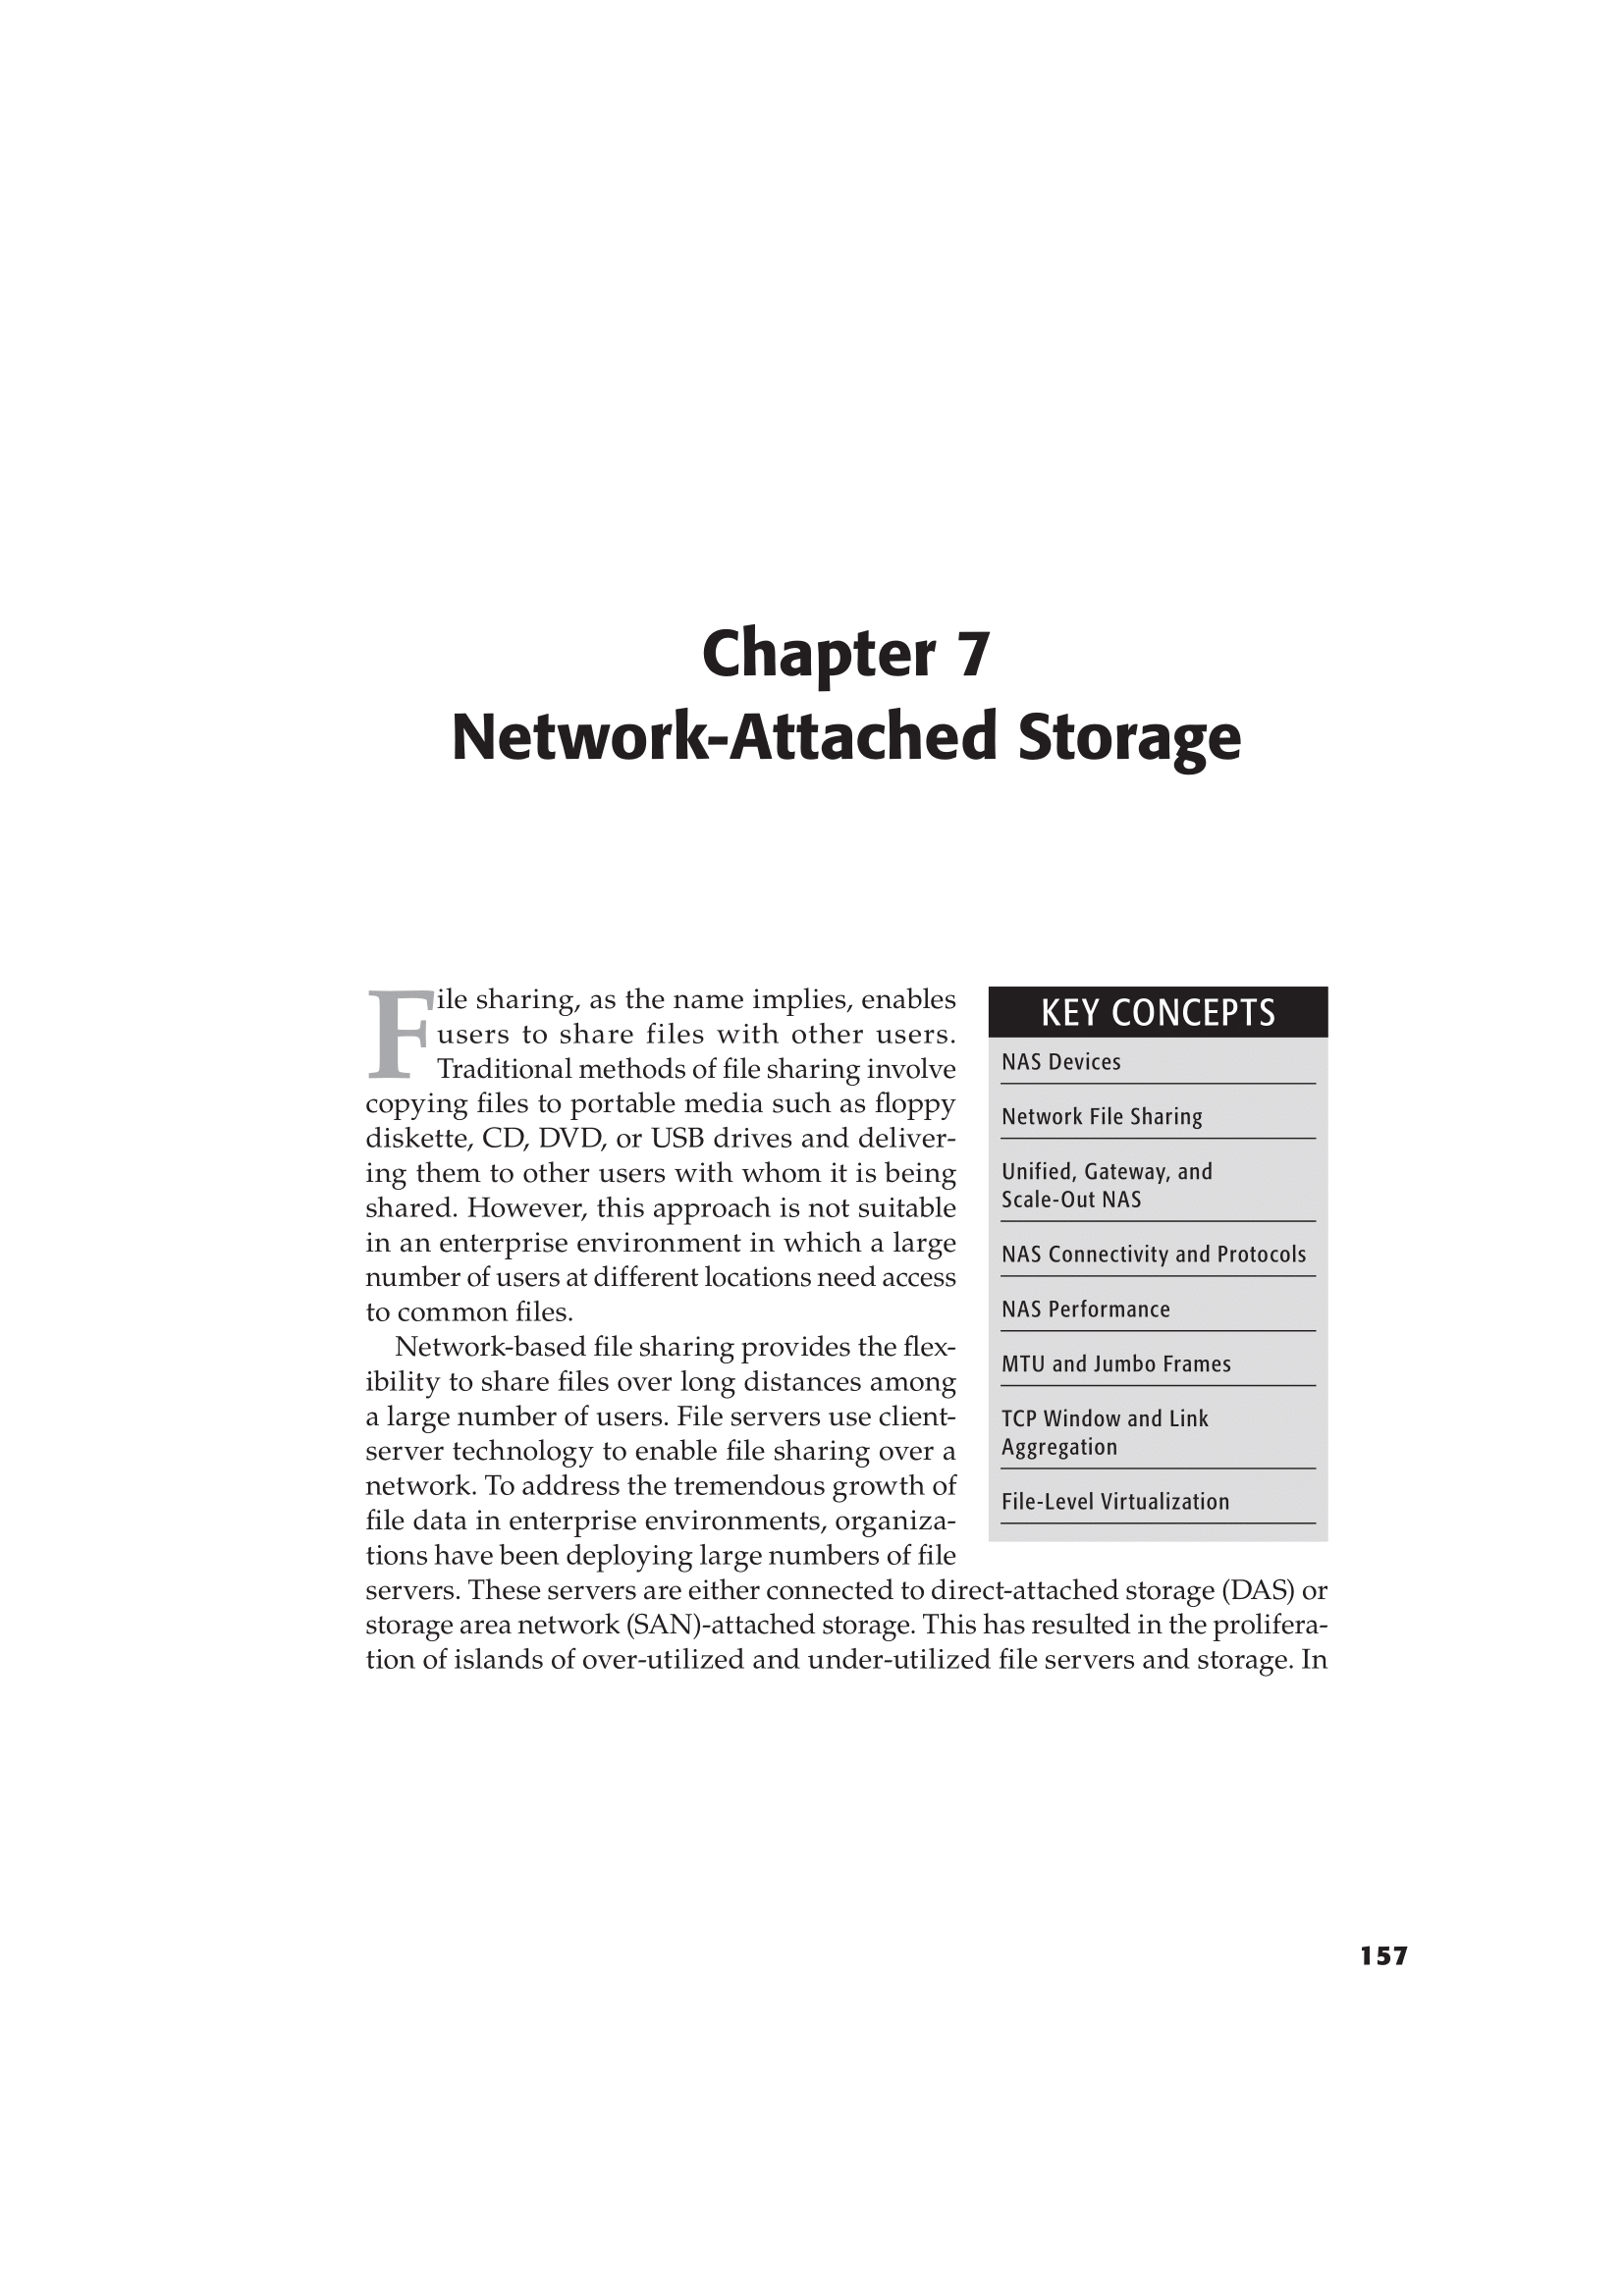Paragraph: (365, 976, 959, 1329), (371, 1338, 968, 1571), (360, 1580, 1342, 1671), (448, 679, 1265, 771), (676, 602, 1019, 685), (999, 1397, 1233, 1474), (985, 1232, 1324, 1283), (985, 1155, 1219, 1223), (1022, 995, 1293, 1050), (985, 1078, 1233, 1132), (999, 1480, 1265, 1529), (996, 1338, 1259, 1378), (996, 1292, 1182, 1329), (985, 1041, 1136, 1073), (1342, 1940, 1425, 1971)
